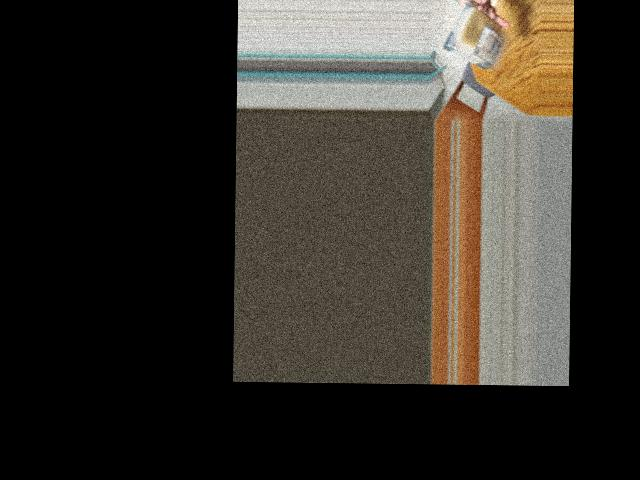cheese: (454, 6, 505, 67)
